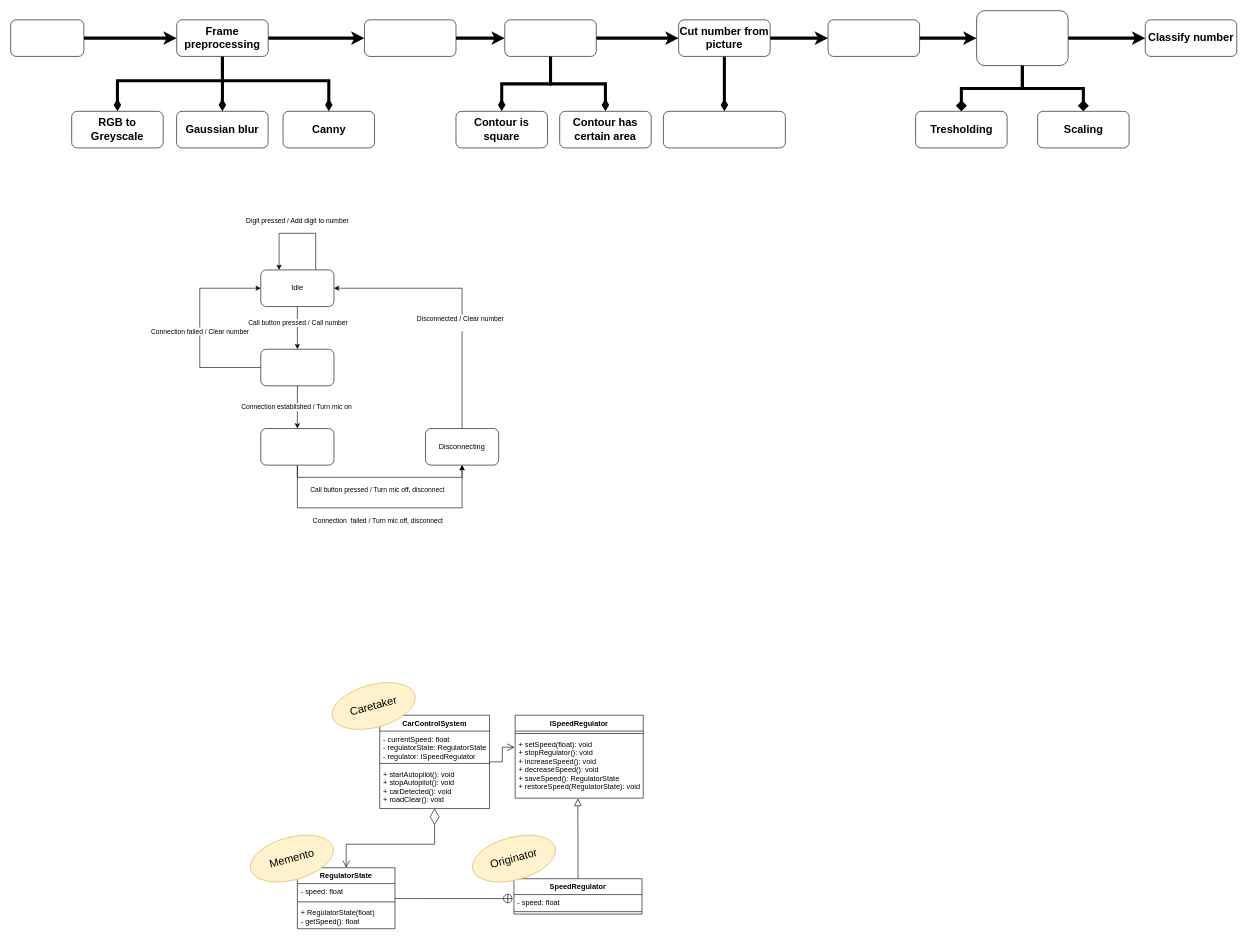
Some shapes in this 1247 by 941 pixel diagram are drawn without their labels. The shapes that lost their labels are listed below. From the top down, each one's centre as x and y in pixels, then its label:
[47,37]: Camera
[410,37]: Find contours
[550,37]: Investigate contours
[873,37]: Resize image to ML model
[1022,38]: Preprocess to be compatible with MNIST
[724,129]: four_point_transform ( imutils.perspective )
[297,367]: Calling
[297,446]: Connected
